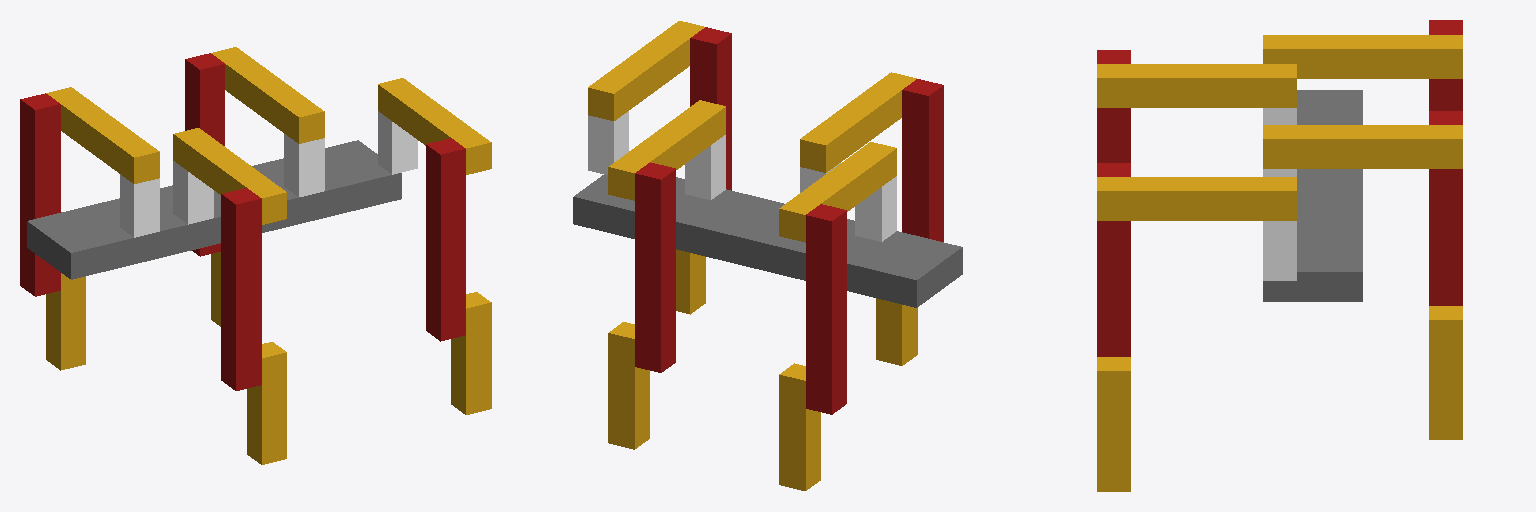
URDF robot description (v0):
<?xml version="1.0" encoding="utf-8"?>
<!-- =================================================================================== -->
<!-- |    This document was autogenerated by xacro from ../robots/v0variants/xacros/v0_4l_10.xacro | -->
<!-- |    EDITING THIS FILE BY HAND IS NOT RECOMMENDED                                 | -->
<!-- =================================================================================== -->
<robot name="v0">
  <material name="grey">
    <color rgba="0.5 0.5 0.5 1"/>
  </material>
  <material name="white">
    <color rgba="1 1 1 1"/>
  </material>
  <material name="yellow">
    <color rgba="0.91 0.7 0.14 1"/>
  </material>
  <material name="red">
    <color rgba="0.71 0.14 0.14 1"/>
  </material>
  <link name="body">
    <visual>
      <geometry>
        <box size="1.3 0.3 0.1"/>
      </geometry>
      <material name="grey"/>
      <origin rpy="0 0 0" xyz="0 0 0.7"/>
    </visual>
    <collision>
      <geometry>
        <box size="1.3 0.3 0.1"/>
      </geometry>
      <origin rpy="0 0 0" xyz="0 0 0.7"/>
    </collision>
    <inertial>
      <mass value="99.84"/>
      <inertia ixx="0.832" ixy="0.0" ixz="0.0" iyy="14.144" iyz="0.0" izz="14.8096"/>
    </inertial>
  </link>
  <link name="l1_segment_1">
    <visual>
      <geometry>
        <box size="0.1 0.1 0.2"/>
      </geometry>
      <material name="white"/>
      <origin rpy="0 0 0" xyz="0 0 0.1"/>
    </visual>
    <collision>
      <geometry>
        <box size="0.1 0.1 0.2"/>
      </geometry>
      <origin rpy="0 0 0" xyz="0 0 0.1"/>
    </collision>
    <inertial>
      <mass value="5.12"/>
      <inertia ixx="0.0213333333333" ixy="0.0" ixz="0.0" iyy="0.0213333333333" iyz="0.0" izz="0.00853333333333"/>
    </inertial>
  </link>
  <joint name="l1_base_to_joint_1" type="fixed">
    <parent link="body"/>
    <child link="l1_segment_1"/>
    <origin rpy="0 0 0" xyz="-0.3520643963152955 -0.1 0.75"/>
  </joint>
  <link name="l1_segment_2_HIP">
    <visual>
      <geometry>
        <box size="0.1 0.6 0.1"/>
      </geometry>
      <material name="yellow"/>
      <origin rpy="0 0 0" xyz="0 0.25 0"/>
    </visual>
    <collision>
      <geometry>
        <box size="0.1 0.6 0.1"/>
      </geometry>
      <origin rpy="0 0 0" xyz="0 0.25 0"/>
    </collision>
    <inertial>
      <mass value="15.36"/>
      <inertia ixx="0.4736" ixy="0.0" ixz="0.0" iyy="0.0256" iyz="0.0" izz="0.4736"/>
    </inertial>
  </link>
  <joint name="l1_joint_1_to_2" type="revolute">
    <parent link="l1_segment_1"/>
    <child link="l1_segment_2_HIP"/>
    <origin rpy="0 0 0" xyz="0 0 0.25"/>
    <axis xyz="0.0 0.0 1.0"/>
    <limit effort="2048" lower="-1.2" upper="1.2" velocity="20"/>
  </joint>
  <link name="l1_segment_3_THIGH">
    <visual>
      <geometry>
        <box size="0.1 0.1 0.7"/>
      </geometry>
      <material name="red"/>
      <origin rpy="0 0 0" xyz="0 0 -0.3"/>
    </visual>
    <collision>
      <geometry>
        <box size="0.1 0.1 0.7"/>
      </geometry>
      <origin rpy="0 0 0" xyz="0 0 -0.3"/>
    </collision>
    <inertial>
      <mass value="17.92"/>
      <inertia ixx="0.746666666667" ixy="0.0" ixz="0.0" iyy="0.746666666667" iyz="0.0" izz="0.0298666666667"/>
    </inertial>
  </link>
  <joint name="l1_joint_2_to_3" type="revolute">
    <parent link="l1_segment_2_HIP"/>
    <child link="l1_segment_3_THIGH"/>
    <origin rpy="0 0 0" xyz="-0.1 0.5 0"/>
    <axis xyz="1.0 0.0 0.0"/>
    <limit effort="2048" lower="-0.2" upper="0.75" velocity="20"/>
  </joint>
  <link name="l1_segment_4_FOOT">
    <visual>
      <geometry>
        <box size="0.1 0.1 0.4"/>
      </geometry>
      <material name="yellow"/>
      <origin rpy="0 0 0" xyz="0 0 -0.2"/>
    </visual>
    <collision>
      <geometry>
        <box size="0.1 0.1 0.4"/>
      </geometry>
      <origin rpy="0 0 0" xyz="0 0 -0.2"/>
    </collision>
    <inertial>
      <mass value="10.24"/>
      <inertia ixx="0.145066666667" ixy="0.0" ixz="0.0" iyy="0.145066666667" iyz="0.0" izz="0.0170666666667"/>
    </inertial>
  </link>
  <joint name="l1_joint_3_to_4_FOOT" type="revolute">
    <parent link="l1_segment_3_THIGH"/>
    <child link="l1_segment_4_FOOT"/>
    <origin rpy="0 0 0" xyz="0.1 0 -0.55"/>
    <axis xyz="1.0 0.0 0.0"/>
    <limit effort="2048" lower="-0.2" upper="0.5" velocity="20"/>
  </joint>
  <link name="r2_segment_1">
    <visual>
      <geometry>
        <box size="0.1 0.1 0.2"/>
      </geometry>
      <material name="white"/>
      <origin rpy="0 0 0" xyz="0 0 0.1"/>
    </visual>
    <collision>
      <geometry>
        <box size="0.1 0.1 0.2"/>
      </geometry>
      <origin rpy="0 0 0" xyz="0 0 0.1"/>
    </collision>
    <inertial>
      <mass value="5.12"/>
      <inertia ixx="0.0213333333333" ixy="0.0" ixz="0.0" iyy="0.0213333333333" iyz="0.0" izz="0.00853333333333"/>
    </inertial>
  </link>
  <joint name="r2_base_to_joint_1" type="fixed">
    <parent link="body"/>
    <child link="r2_segment_1"/>
    <origin rpy="0 0 0" xyz="-0.14090414105236018 -0.1 0.75"/>
  </joint>
  <link name="r2_segment_2_HIP">
    <visual>
      <geometry>
        <box size="0.1 0.6 0.1"/>
      </geometry>
      <material name="yellow"/>
      <origin rpy="0 0 0" xyz="0 -0.25 0"/>
    </visual>
    <collision>
      <geometry>
        <box size="0.1 0.6 0.1"/>
      </geometry>
      <origin rpy="0 0 0" xyz="0 -0.25 0"/>
    </collision>
    <inertial>
      <mass value="15.36"/>
      <inertia ixx="0.4736" ixy="0.0" ixz="0.0" iyy="0.0256" iyz="0.0" izz="0.4736"/>
    </inertial>
  </link>
  <joint name="r2_joint_1_to_2" type="revolute">
    <parent link="r2_segment_1"/>
    <child link="r2_segment_2_HIP"/>
    <origin rpy="0 0 0" xyz="0 0 0.25"/>
    <axis xyz="0.0 0.0 1.0"/>
    <limit effort="2048" lower="-1.2" upper="1.2" velocity="20"/>
  </joint>
  <link name="r2_segment_3_THIGH">
    <visual>
      <geometry>
        <box size="0.1 0.1 0.7"/>
      </geometry>
      <material name="red"/>
      <origin rpy="0 0 0" xyz="0 0 -0.3"/>
    </visual>
    <collision>
      <geometry>
        <box size="0.1 0.1 0.7"/>
      </geometry>
      <origin rpy="0 0 0" xyz="0 0 -0.3"/>
    </collision>
    <inertial>
      <mass value="17.92"/>
      <inertia ixx="0.746666666667" ixy="0.0" ixz="0.0" iyy="0.746666666667" iyz="0.0" izz="0.0298666666667"/>
    </inertial>
  </link>
  <joint name="r2_joint_2_to_3" type="revolute">
    <parent link="r2_segment_2_HIP"/>
    <child link="r2_segment_3_THIGH"/>
    <origin rpy="0 0 0" xyz="-0.1 -0.5 0"/>
    <axis xyz="1.0 0.0 0.0"/>
    <limit effort="2048" lower="-0.75" upper="0.2" velocity="20"/>
  </joint>
  <link name="r2_segment_4_FOOT">
    <visual>
      <geometry>
        <box size="0.1 0.1 0.4"/>
      </geometry>
      <material name="yellow"/>
      <origin rpy="0 0 0" xyz="0 0 -0.2"/>
    </visual>
    <collision>
      <geometry>
        <box size="0.1 0.1 0.4"/>
      </geometry>
      <origin rpy="0 0 0" xyz="0 0 -0.2"/>
    </collision>
    <inertial>
      <mass value="10.24"/>
      <inertia ixx="0.145066666667" ixy="0.0" ixz="0.0" iyy="0.145066666667" iyz="0.0" izz="0.0170666666667"/>
    </inertial>
  </link>
  <joint name="r2_joint_3_to_4_FOOT" type="revolute">
    <parent link="r2_segment_3_THIGH"/>
    <child link="r2_segment_4_FOOT"/>
    <origin rpy="0 0 0" xyz="0.1 0 -0.55"/>
    <axis xyz="1.0 0.0 0.0"/>
    <limit effort="2048" lower="-0.5" upper="0.2" velocity="20"/>
  </joint>
  <link name="l3_segment_1">
    <visual>
      <geometry>
        <box size="0.1 0.1 0.2"/>
      </geometry>
      <material name="white"/>
      <origin rpy="0 0 0" xyz="0 0 0.1"/>
    </visual>
    <collision>
      <geometry>
        <box size="0.1 0.1 0.2"/>
      </geometry>
      <origin rpy="0 0 0" xyz="0 0 0.1"/>
    </collision>
    <inertial>
      <mass value="5.12"/>
      <inertia ixx="0.0213333333333" ixy="0.0" ixz="0.0" iyy="0.0213333333333" iyz="0.0" izz="0.00853333333333"/>
    </inertial>
  </link>
  <joint name="l3_base_to_joint_1" type="fixed">
    <parent link="body"/>
    <child link="l3_segment_1"/>
    <origin rpy="0 0 0" xyz="0.29444171629703686 -0.1 0.75"/>
  </joint>
  <link name="l3_segment_2_HIP">
    <visual>
      <geometry>
        <box size="0.1 0.6 0.1"/>
      </geometry>
      <material name="yellow"/>
      <origin rpy="0 0 0" xyz="0 0.25 0"/>
    </visual>
    <collision>
      <geometry>
        <box size="0.1 0.6 0.1"/>
      </geometry>
      <origin rpy="0 0 0" xyz="0 0.25 0"/>
    </collision>
    <inertial>
      <mass value="15.36"/>
      <inertia ixx="0.4736" ixy="0.0" ixz="0.0" iyy="0.0256" iyz="0.0" izz="0.4736"/>
    </inertial>
  </link>
  <joint name="l3_joint_1_to_2" type="revolute">
    <parent link="l3_segment_1"/>
    <child link="l3_segment_2_HIP"/>
    <origin rpy="0 0 0" xyz="0 0 0.25"/>
    <axis xyz="0.0 0.0 1.0"/>
    <limit effort="2048" lower="-1.2" upper="1.2" velocity="20"/>
  </joint>
  <link name="l3_segment_3_THIGH">
    <visual>
      <geometry>
        <box size="0.1 0.1 0.7"/>
      </geometry>
      <material name="red"/>
      <origin rpy="0 0 0" xyz="0 0 -0.3"/>
    </visual>
    <collision>
      <geometry>
        <box size="0.1 0.1 0.7"/>
      </geometry>
      <origin rpy="0 0 0" xyz="0 0 -0.3"/>
    </collision>
    <inertial>
      <mass value="17.92"/>
      <inertia ixx="0.746666666667" ixy="0.0" ixz="0.0" iyy="0.746666666667" iyz="0.0" izz="0.0298666666667"/>
    </inertial>
  </link>
  <joint name="l3_joint_2_to_3" type="revolute">
    <parent link="l3_segment_2_HIP"/>
    <child link="l3_segment_3_THIGH"/>
    <origin rpy="0 0 0" xyz="-0.1 0.5 0"/>
    <axis xyz="1.0 0.0 0.0"/>
    <limit effort="2048" lower="-0.2" upper="0.75" velocity="20"/>
  </joint>
  <link name="l3_segment_4_FOOT">
    <visual>
      <geometry>
        <box size="0.1 0.1 0.4"/>
      </geometry>
      <material name="yellow"/>
      <origin rpy="0 0 0" xyz="0 0 -0.2"/>
    </visual>
    <collision>
      <geometry>
        <box size="0.1 0.1 0.4"/>
      </geometry>
      <origin rpy="0 0 0" xyz="0 0 -0.2"/>
    </collision>
    <inertial>
      <mass value="10.24"/>
      <inertia ixx="0.145066666667" ixy="0.0" ixz="0.0" iyy="0.145066666667" iyz="0.0" izz="0.0170666666667"/>
    </inertial>
  </link>
  <joint name="l3_joint_3_to_4_FOOT" type="revolute">
    <parent link="l3_segment_3_THIGH"/>
    <child link="l3_segment_4_FOOT"/>
    <origin rpy="0 0 0" xyz="0.1 0 -0.55"/>
    <axis xyz="1.0 0.0 0.0"/>
    <limit effort="2048" lower="-0.2" upper="0.5" velocity="20"/>
  </joint>
  <link name="r4_segment_1">
    <visual>
      <geometry>
        <box size="0.1 0.1 0.2"/>
      </geometry>
      <material name="white"/>
      <origin rpy="0 0 0" xyz="0 0 0.1"/>
    </visual>
    <collision>
      <geometry>
        <box size="0.1 0.1 0.2"/>
      </geometry>
      <origin rpy="0 0 0" xyz="0 0 0.1"/>
    </collision>
    <inertial>
      <mass value="5.12"/>
      <inertia ixx="0.0213333333333" ixy="0.0" ixz="0.0" iyy="0.0213333333333" iyz="0.0" izz="0.00853333333333"/>
    </inertial>
  </link>
  <joint name="r4_base_to_joint_1" type="fixed">
    <parent link="body"/>
    <child link="r4_segment_1"/>
    <origin rpy="0 0 0" xyz="0.6610585018897366 -0.1 0.75"/>
  </joint>
  <link name="r4_segment_2_HIP">
    <visual>
      <geometry>
        <box size="0.1 0.6 0.1"/>
      </geometry>
      <material name="yellow"/>
      <origin rpy="0 0 0" xyz="0 -0.25 0"/>
    </visual>
    <collision>
      <geometry>
        <box size="0.1 0.6 0.1"/>
      </geometry>
      <origin rpy="0 0 0" xyz="0 -0.25 0"/>
    </collision>
    <inertial>
      <mass value="15.36"/>
      <inertia ixx="0.4736" ixy="0.0" ixz="0.0" iyy="0.0256" iyz="0.0" izz="0.4736"/>
    </inertial>
  </link>
  <joint name="r4_joint_1_to_2" type="revolute">
    <parent link="r4_segment_1"/>
    <child link="r4_segment_2_HIP"/>
    <origin rpy="0 0 0" xyz="0 0 0.25"/>
    <axis xyz="0.0 0.0 1.0"/>
    <limit effort="2048" lower="-1.2" upper="1.2" velocity="20"/>
  </joint>
  <link name="r4_segment_3_THIGH">
    <visual>
      <geometry>
        <box size="0.1 0.1 0.7"/>
      </geometry>
      <material name="red"/>
      <origin rpy="0 0 0" xyz="0 0 -0.3"/>
    </visual>
    <collision>
      <geometry>
        <box size="0.1 0.1 0.7"/>
      </geometry>
      <origin rpy="0 0 0" xyz="0 0 -0.3"/>
    </collision>
    <inertial>
      <mass value="17.92"/>
      <inertia ixx="0.746666666667" ixy="0.0" ixz="0.0" iyy="0.746666666667" iyz="0.0" izz="0.0298666666667"/>
    </inertial>
  </link>
  <joint name="r4_joint_2_to_3" type="revolute">
    <parent link="r4_segment_2_HIP"/>
    <child link="r4_segment_3_THIGH"/>
    <origin rpy="0 0 0" xyz="-0.1 -0.5 0"/>
    <axis xyz="1.0 0.0 0.0"/>
    <limit effort="2048" lower="-0.75" upper="0.2" velocity="20"/>
  </joint>
  <link name="r4_segment_4_FOOT">
    <visual>
      <geometry>
        <box size="0.1 0.1 0.4"/>
      </geometry>
      <material name="yellow"/>
      <origin rpy="0 0 0" xyz="0 0 -0.2"/>
    </visual>
    <collision>
      <geometry>
        <box size="0.1 0.1 0.4"/>
      </geometry>
      <origin rpy="0 0 0" xyz="0 0 -0.2"/>
    </collision>
    <inertial>
      <mass value="10.24"/>
      <inertia ixx="0.145066666667" ixy="0.0" ixz="0.0" iyy="0.145066666667" iyz="0.0" izz="0.0170666666667"/>
    </inertial>
  </link>
  <joint name="r4_joint_3_to_4_FOOT" type="revolute">
    <parent link="r4_segment_3_THIGH"/>
    <child link="r4_segment_4_FOOT"/>
    <origin rpy="0 0 0" xyz="0.1 0 -0.55"/>
    <axis xyz="1.0 0.0 0.0"/>
    <limit effort="2048" lower="-0.5" upper="0.2" velocity="20"/>
  </joint>
</robot>

--- Render facts (derived) ---
3 views of the same robot in one strip: view 1: azimuth 30°, elevation 25°; view 2: azimuth 150°, elevation 25°; view 3: azimuth 270°, elevation 25° (orthographic).
Model v0 with 17 links and 16 joints (12 revolute, 4 fixed), rooted at body, posed all joints at 0.
Links seen in each view (by area): view 1: body, r2_segment_3_THIGH, r4_segment_3_THIGH, l1_segment_3_THIGH, l3_segment_2_HIP, l1_segment_2_HIP, r4_segment_2_HIP, r2_segment_2_HIP, r4_segment_4_FOOT, r2_segment_4_FOOT, l1_segment_4_FOOT, l3_segment_3_THIGH (+5 smaller); view 2: body, l1_segment_3_THIGH, l3_segment_3_THIGH, r2_segment_3_THIGH, r2_segment_2_HIP, r4_segment_2_HIP, l1_segment_2_HIP, l3_segment_2_HIP, l3_segment_4_FOOT, l1_segment_4_FOOT, r4_segment_3_THIGH, r2_segment_4_FOOT (+4 smaller); view 3: body, r2_segment_2_HIP, l3_segment_2_HIP, r4_segment_2_HIP, l1_segment_2_HIP, l3_segment_3_THIGH, r4_segment_3_THIGH, r4_segment_4_FOOT, l3_segment_4_FOOT, r2_segment_3_THIGH, r4_segment_1, l1_segment_3_THIGH (+1 smaller).
Boxes of the visible links, <box> form: body: <box>27,140,401,279</box>; r2_segment_3_THIGH: <box>221,188,261,390</box>; r4_segment_3_THIGH: <box>426,138,465,341</box>; l1_segment_3_THIGH: <box>20,93,60,296</box>; l3_segment_2_HIP: <box>211,47,324,143</box>; l1_segment_2_HIP: <box>46,87,159,183</box>; r4_segment_2_HIP: <box>378,78,491,174</box>; r2_segment_2_HIP: <box>173,128,286,224</box>; r4_segment_4_FOOT: <box>451,292,491,414</box>; r2_segment_4_FOOT: <box>247,342,286,464</box>; l1_segment_4_FOOT: <box>46,273,85,370</box>; l3_segment_3_THIGH: <box>185,53,224,256</box>; body: <box>573,174,962,307</box>; l1_segment_3_THIGH: <box>806,204,846,414</box>; l3_segment_3_THIGH: <box>635,162,675,372</box>; r2_segment_3_THIGH: <box>902,79,943,241</box>; r2_segment_2_HIP: <box>800,72,916,172</box>; r4_segment_2_HIP: <box>588,21,704,120</box>; l1_segment_2_HIP: <box>779,142,896,242</box>; l3_segment_2_HIP: <box>608,100,725,200</box>; l3_segment_4_FOOT: <box>608,322,649,449</box>; l1_segment_4_FOOT: <box>779,363,820,490</box>; r4_segment_3_THIGH: <box>690,27,731,190</box>; r2_segment_4_FOOT: <box>876,298,917,365</box>; body: <box>1263,90,1362,301</box>; r2_segment_2_HIP: <box>1097,64,1296,107</box>; l3_segment_2_HIP: <box>1263,125,1462,168</box>; r4_segment_2_HIP: <box>1097,177,1296,220</box>; l1_segment_2_HIP: <box>1263,35,1462,78</box>; l3_segment_3_THIGH: <box>1429,111,1462,305</box>; r4_segment_3_THIGH: <box>1097,163,1130,356</box>; r4_segment_4_FOOT: <box>1097,357,1130,491</box>; l3_segment_4_FOOT: <box>1429,306,1462,439</box>; r2_segment_3_THIGH: <box>1097,50,1130,162</box>; r4_segment_1: <box>1263,221,1296,280</box>; l1_segment_3_THIGH: <box>1429,20,1462,110</box>.
Size in the robot's own frame: 1.36 by 1.1 by 1 metres.
Geometry: primitives only (box / cylinder / sphere), no mesh files.